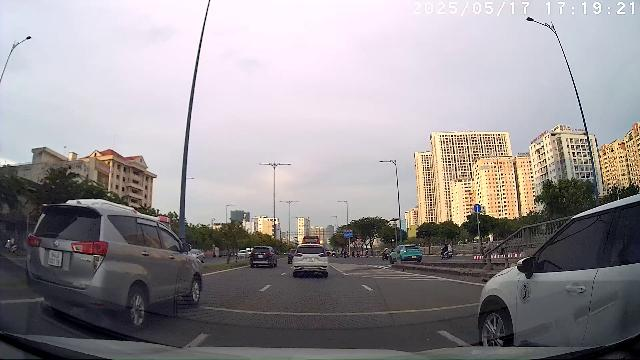301a-cac-xe-chi-duoc-di-thang: (474, 204, 482, 212)
